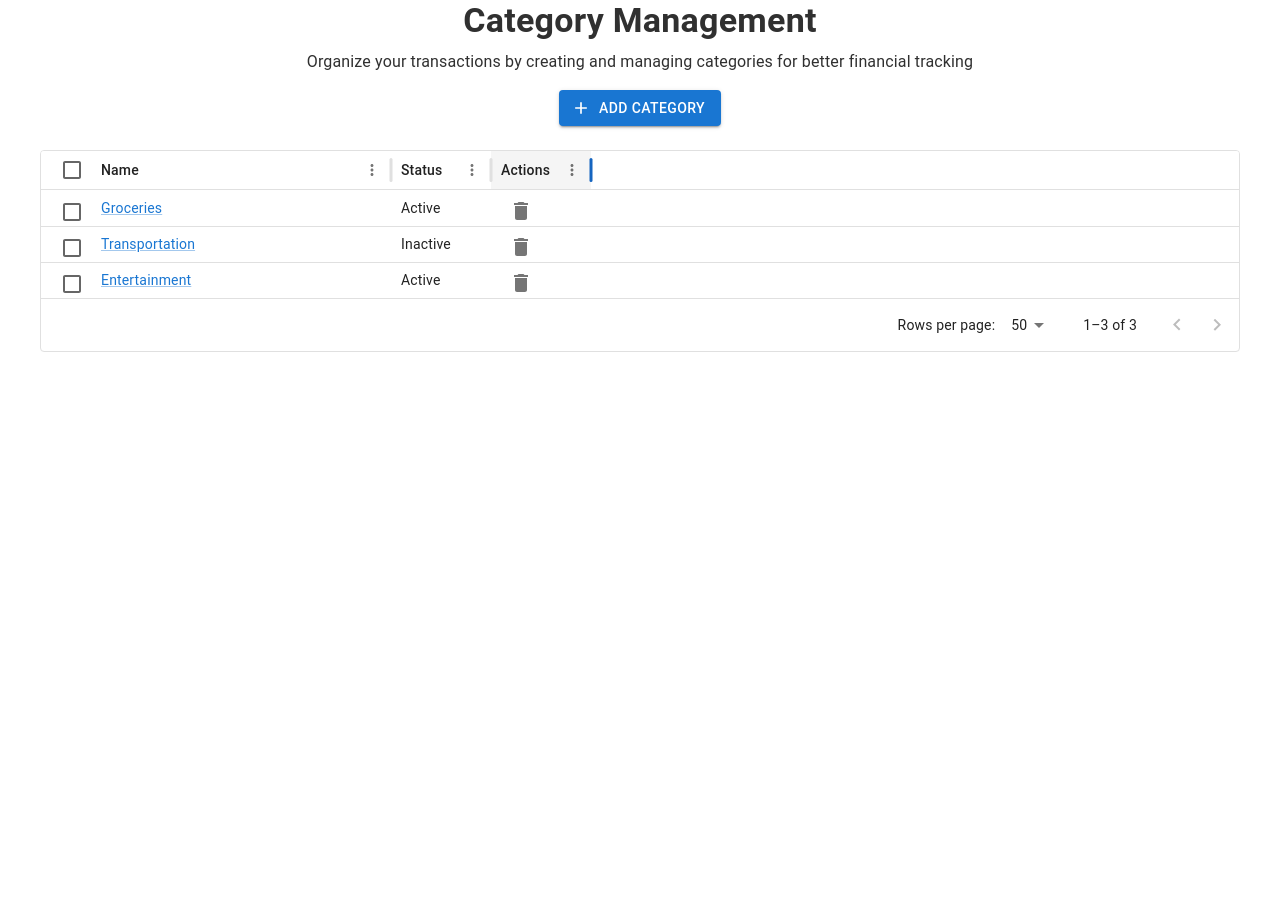
Test: pages/finance/categories › Basic CRUD Operations › opens Add Category modal
The width and height of the screenshot is (1280, 900).
Click the button "Add Category".
click(640, 108)  # box [559,90,721,126]
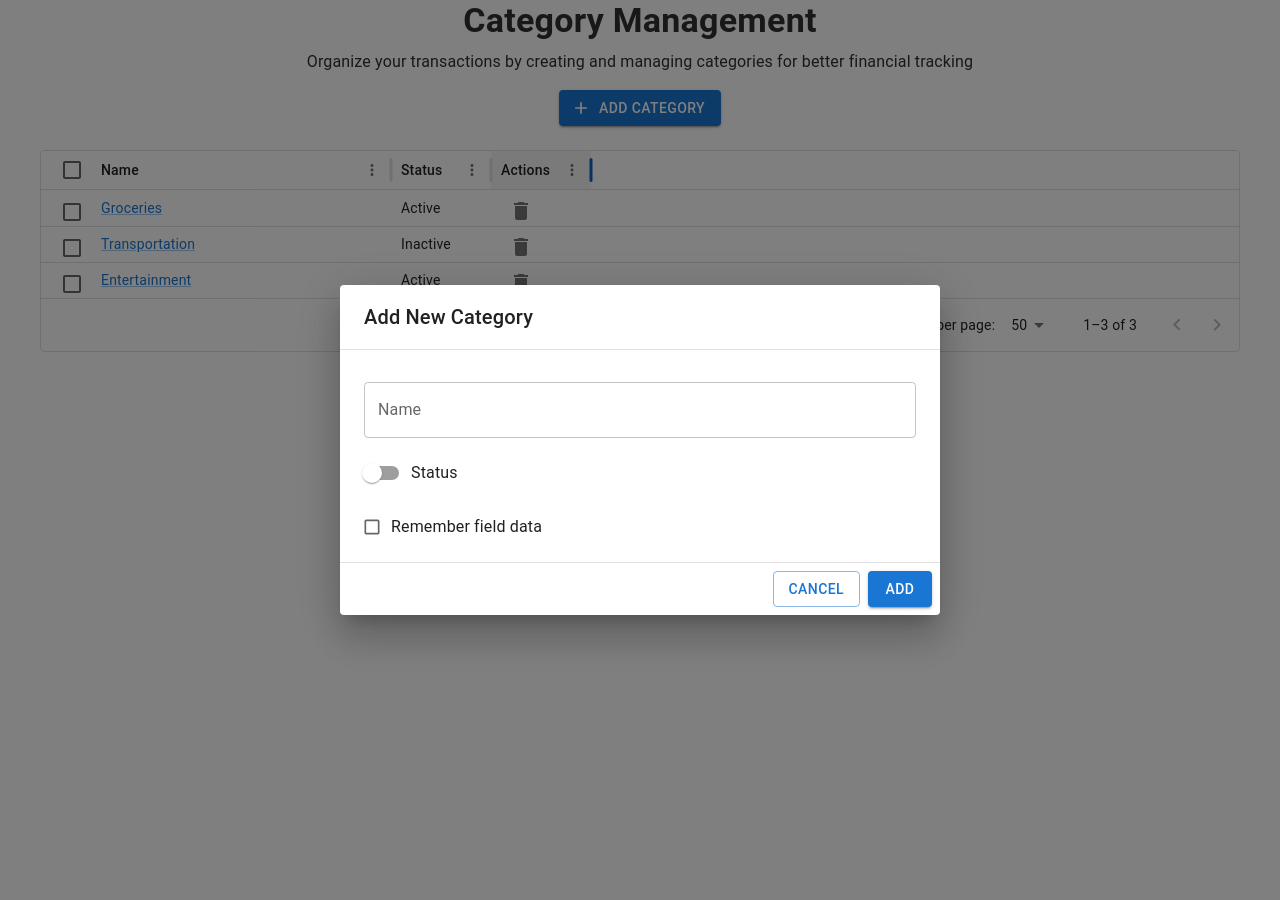
Expected: the heading "Add New Category" is shown, [364,305,533,329]
